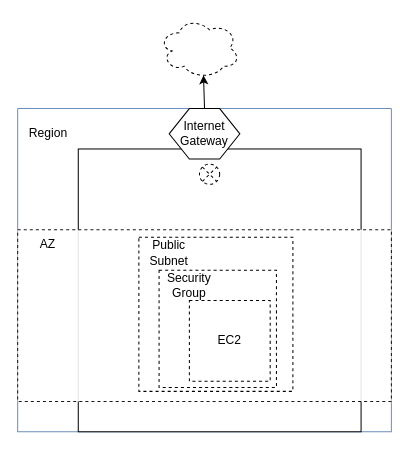
This 409x449 diagram has some shape labels left out. Here are the shapes that lost their labels. From the top down, the centre of each, then its label:
point (199, 47): Internet
point (209, 173): Route Table 0.0.0.0/0
